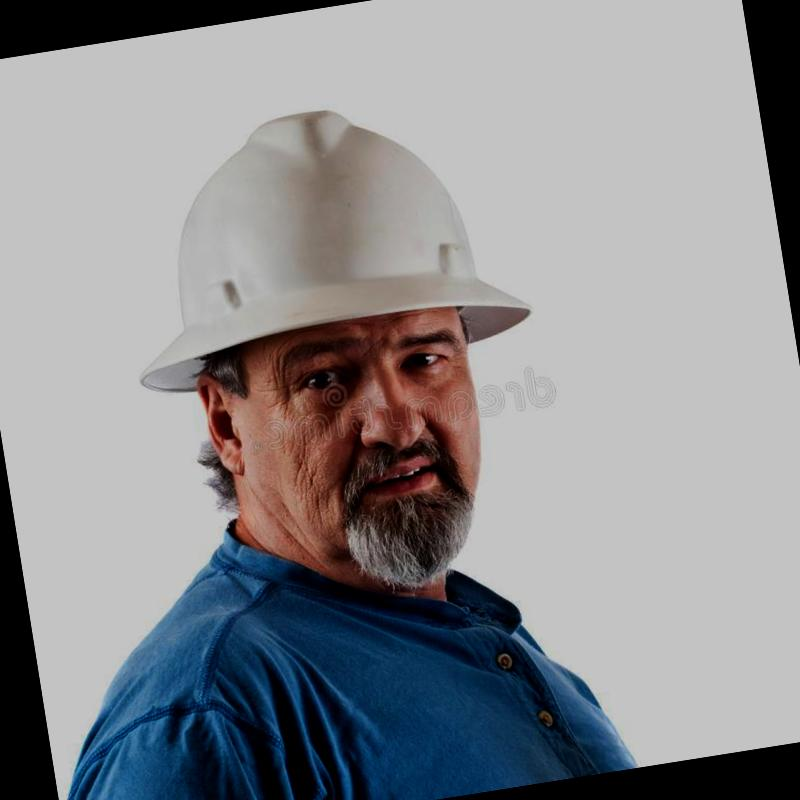helmet: (75, 72, 558, 390)
no_vest: (53, 464, 652, 800)
person: (0, 94, 657, 800)
